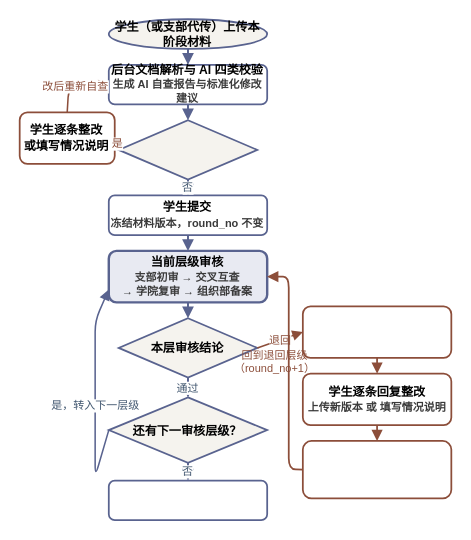
The diagram is 471 pixels wide and 540 high, and some of its shapes have lost their labels. The shapes that lost their labels are listed below. From the top down, each one's centre as x and y in pixels, then its label:
At pixel 187 149: "存在阻断级问题？".
At pixel 376 331: "生成整改通知并推送 按已确认问题 + 修改建议".
At pixel 376 469: "重新提交 自动重跑 AI 复核 比对已解决 / 未解决 / 新增".
At pixel 187 500: "备案归档 提交包只读，节点锁定".
